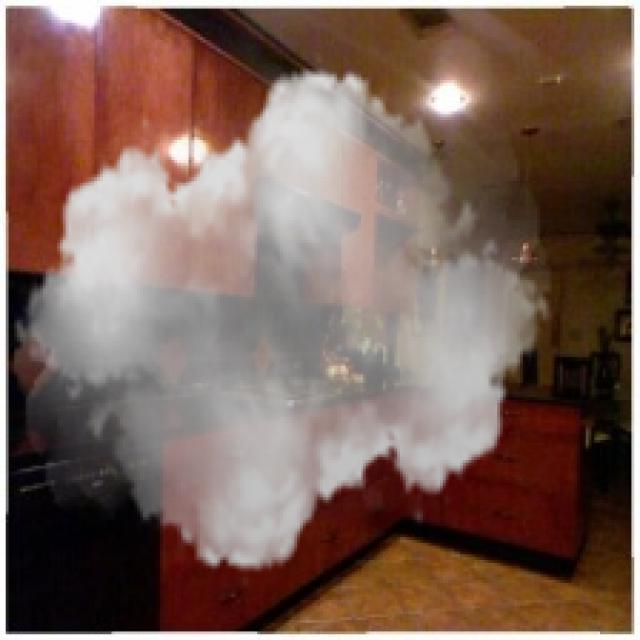Smoke: (14, 49, 552, 592)
